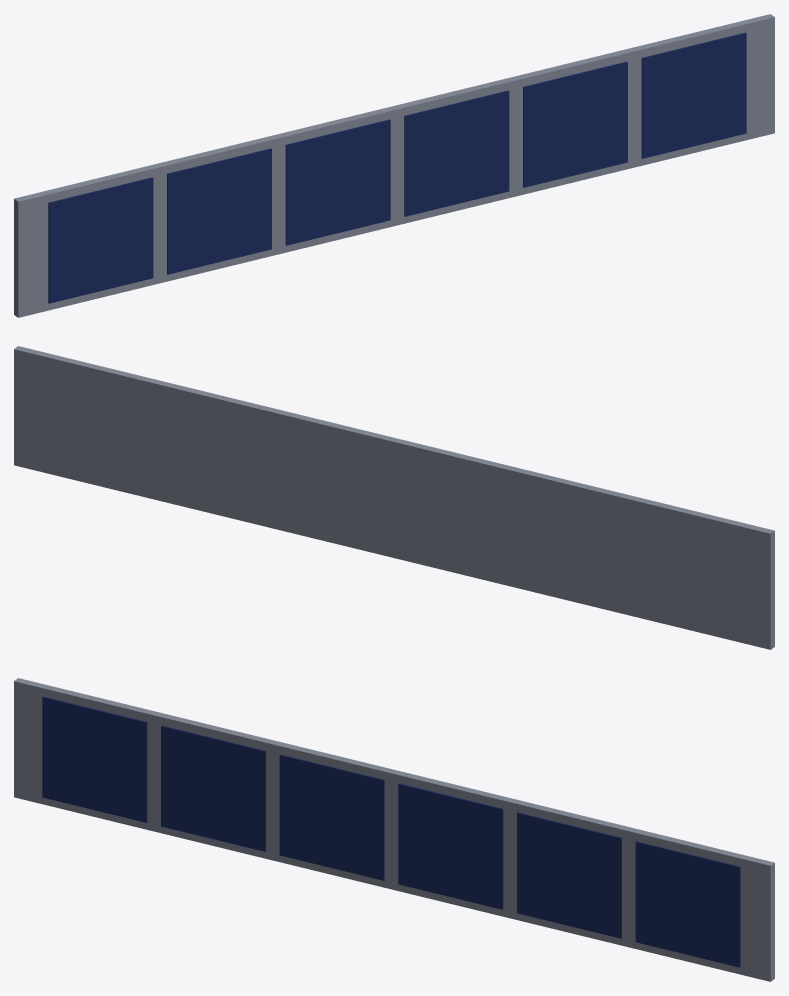
File: pan8.glb
3 views of the same model, one above another, from view 1: azimuth 30°, elevation 25°; view 2: azimuth 150°, elevation 25°; view 3: azimuth 330°, elevation 25° (orthographic).
Visible parts, largest first — view 1: pan8_celdas, pan8_base; view 2: pan8_base; view 3: pan8_celdas, pan8_base.
Boxes of the visible parts, x1,y1,x2,y2 form: pan8_celdas: (48,32,746,303); pan8_base: (14,14,774,317); pan8_base: (14,346,774,649); pan8_celdas: (42,696,740,967); pan8_base: (14,678,774,981).
Size of the model in its own units: 0.3 by 0.044 by 0.0038.
